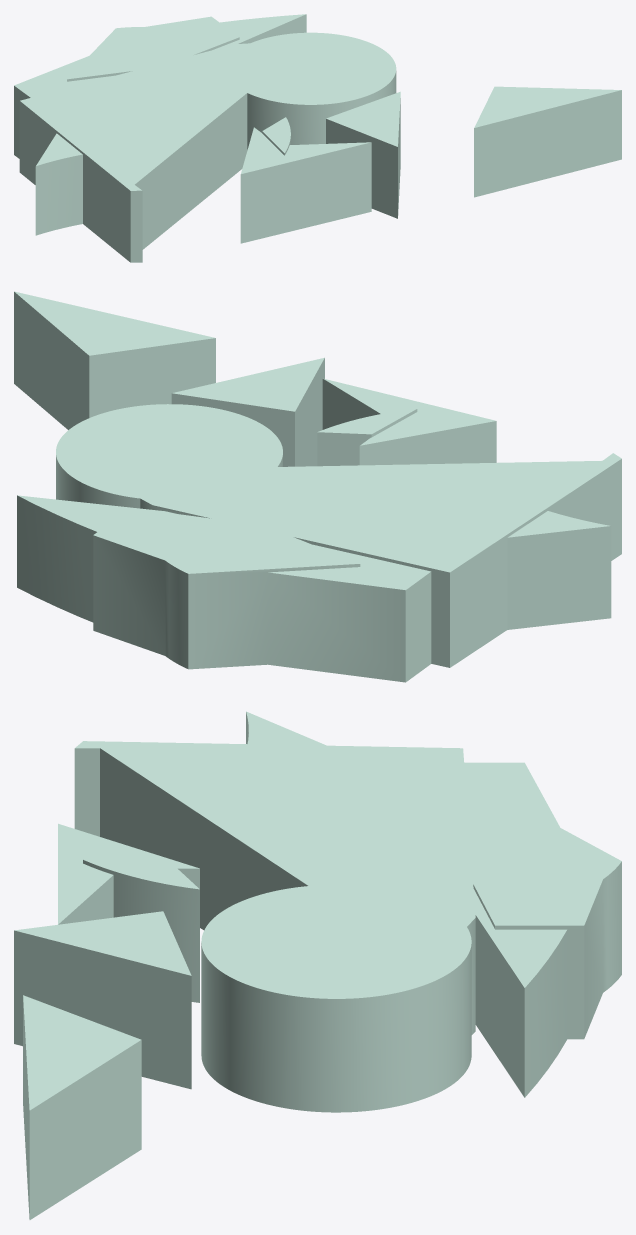
3 views of the same model, one above another, from view 1: azimuth 30°, elevation 25°; view 2: azimuth 150°, elevation 25°; view 3: azimuth 270°, elevation 25° (orthographic). The views are drawn at different scales.
Parts seen in each view (by area): view 1: Renderer Node; view 2: Renderer Node; view 3: Renderer Node.
Part boxes in pixels (bbox=[...]): Renderer Node: bbox=[14, 14, 621, 262]; Renderer Node: bbox=[14, 291, 621, 682]; Renderer Node: bbox=[14, 711, 621, 1219].
Bounding box in the file's own units: 1.77 × 0.2344 × 1.14.
